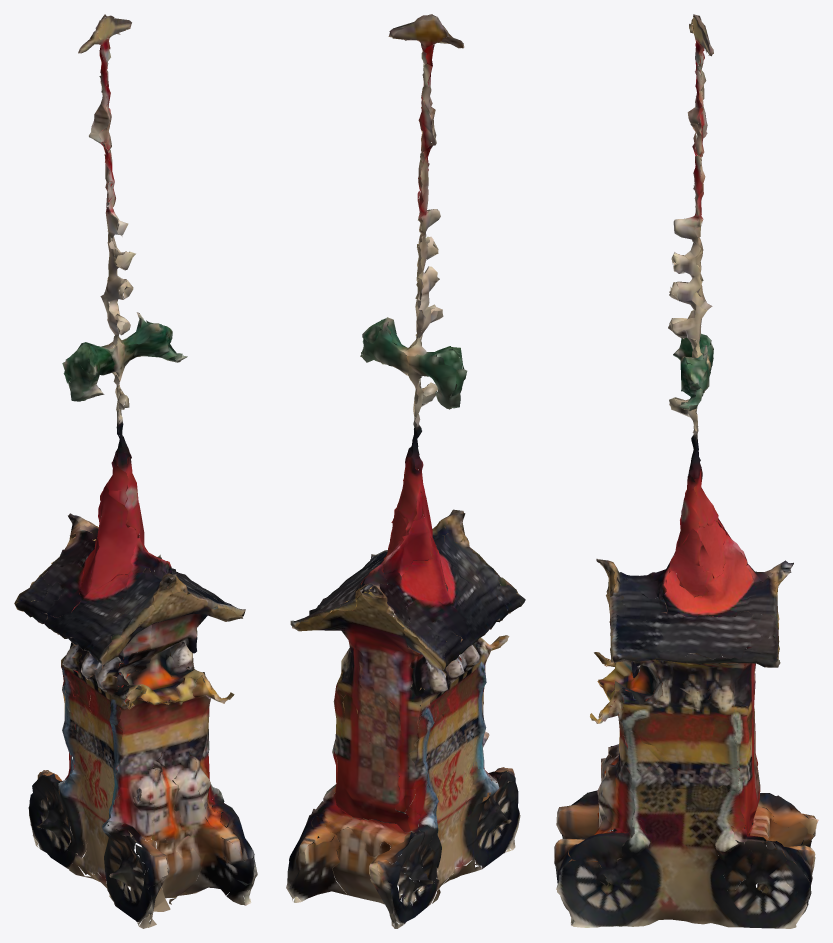
Rendered from 放下鉾.glb.
3 views of the same model, side by side, from view 1: azimuth 30°, elevation 25°; view 2: azimuth 150°, elevation 25°; view 3: azimuth 270°, elevation 25° (orthographic).
Visible parts, largest first — view 1: mesh; view 2: mesh; view 3: mesh.
Part boxes in pixels (bbox=[...]): mesh: bbox=[14, 14, 257, 928]; mesh: bbox=[286, 14, 525, 928]; mesh: bbox=[554, 14, 818, 928].
Size of the model in its own units: 2.72 by 14.74 by 4.05.
Materials: 1 (1 with a texture image).
